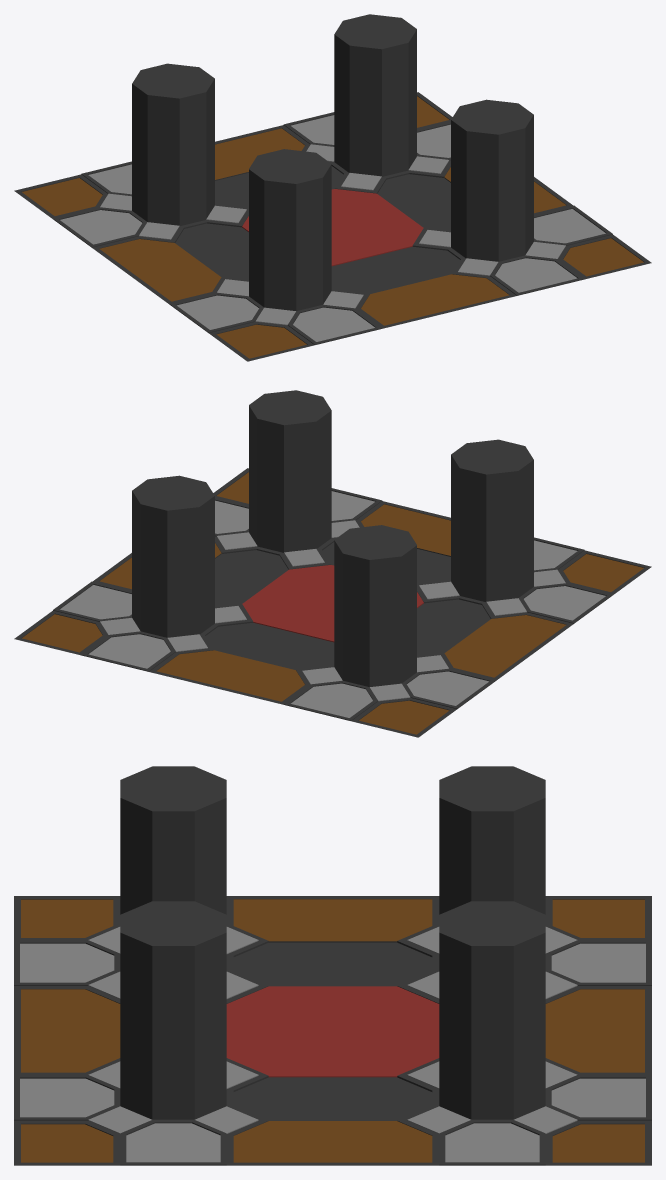
File: Pillars.fbx
3 renders of one model, top to bottom at view 1: azimuth 30°, elevation 25°; view 2: azimuth 150°, elevation 25°; view 3: azimuth 270°, elevation 25°, orthographic. The views are drawn at different scales.
Parts seen in each view (by area): view 1: Pillars; view 2: Pillars; view 3: Pillars.
Part boxes in pixels (box(x1,y1,x2,y2)): Pillars: box(14, 14, 651, 361); Pillars: box(14, 390, 651, 737); Pillars: box(14, 766, 651, 1165).
Bounding box in the file's own units: 200 × 60.97 × 200.
